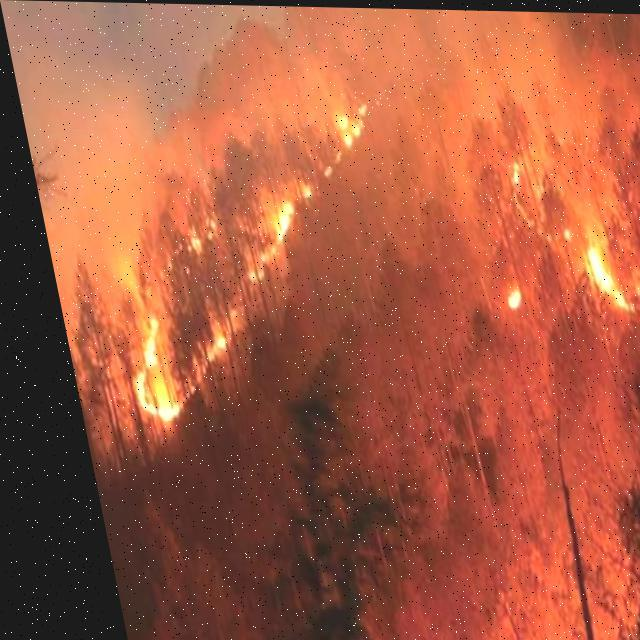Fire: (48, 68, 420, 446), (454, 113, 639, 337)
